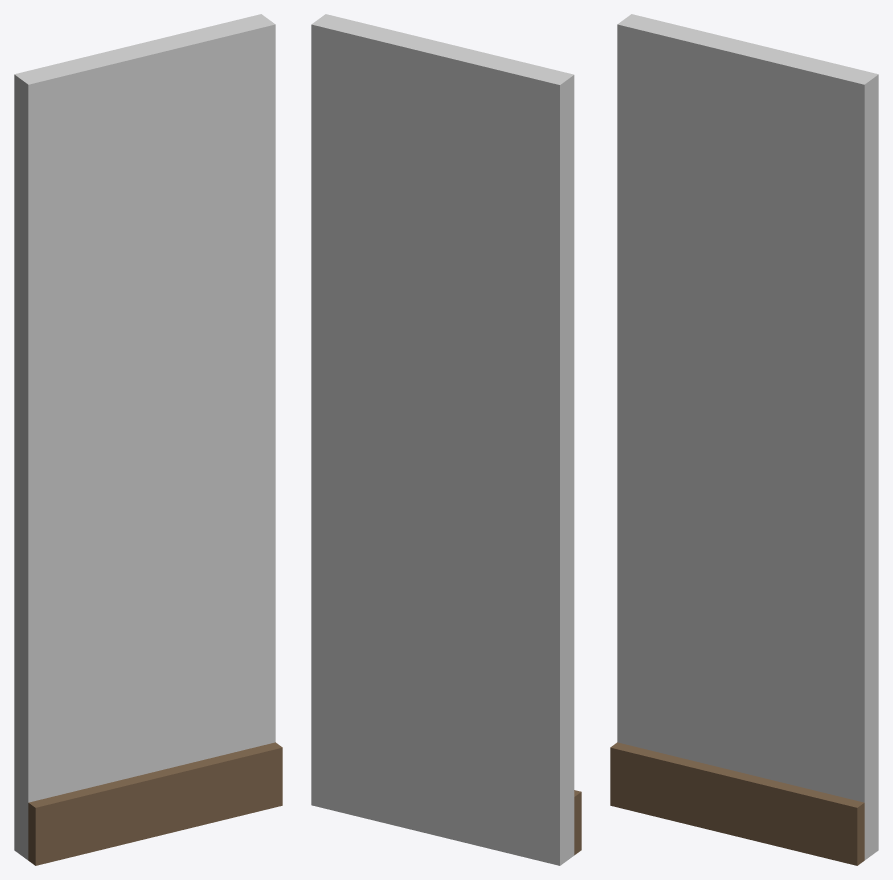
Rendered from Mesh_WallBaseboard_H1.fbx.
3 renders of one model, left to right at view 1: azimuth 30°, elevation 25°; view 2: azimuth 150°, elevation 25°; view 3: azimuth 330°, elevation 25°, orthographic.
Parts seen in each view (by area): view 1: Mesh_WallBaseboard_H1; view 2: Mesh_WallBaseboard_H1; view 3: Mesh_WallBaseboard_H1.
Part boxes in pixels (x1,y1,x2,y2): Mesh_WallBaseboard_H1: (14,14,282,865); Mesh_WallBaseboard_H1: (311,14,581,865); Mesh_WallBaseboard_H1: (610,14,878,865).
Bounding box in the file's own units: 1 × 3 × 0.15.
